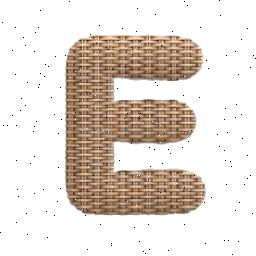e: (57, 32, 211, 220)
